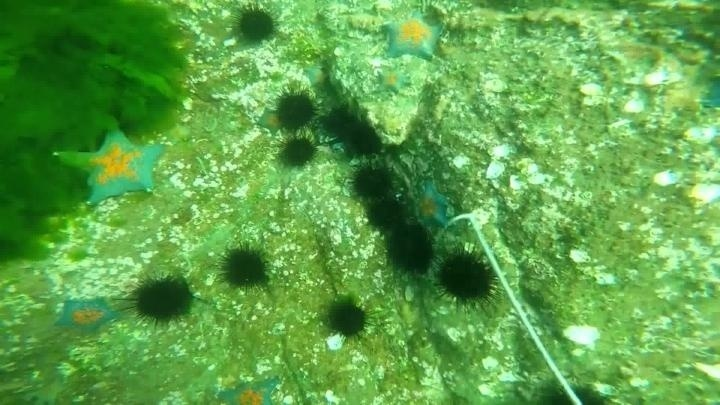echinus: (433, 247, 500, 310), (127, 273, 197, 328), (384, 222, 437, 275), (217, 243, 272, 291), (323, 295, 371, 341), (230, 3, 280, 47), (272, 88, 319, 133), (348, 159, 396, 202), (319, 102, 365, 141), (276, 133, 320, 170), (364, 196, 407, 233), (347, 122, 386, 156), (561, 382, 610, 405)
starfish: (53, 128, 166, 207), (380, 11, 445, 62), (54, 295, 119, 338), (410, 179, 454, 232), (214, 374, 283, 403), (375, 66, 412, 96), (256, 108, 284, 136), (301, 62, 327, 88)
